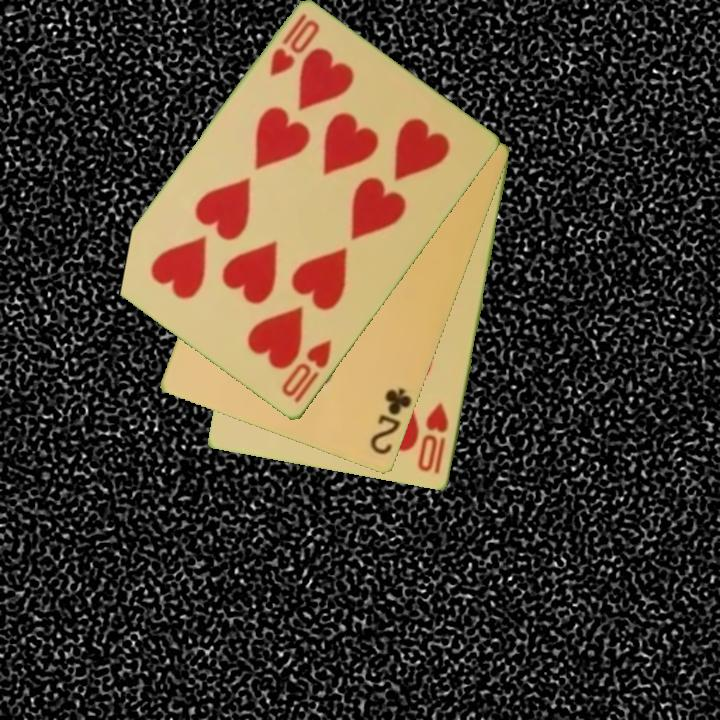10h: (265, 10, 323, 80), (278, 336, 335, 407), (415, 400, 452, 477)
2c: (366, 385, 415, 458)
